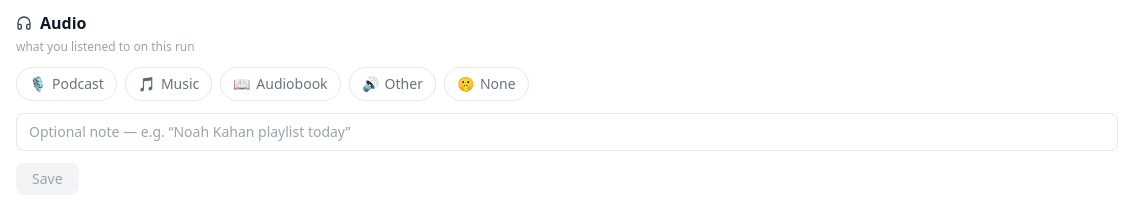
Test: AudioLog › PATCHes the selected type + note on save
This screenshot has width=1135, height=212.
Click the button "🎙️ Podcast" at (66, 84), box left=16, top=67, right=117, bottom=101
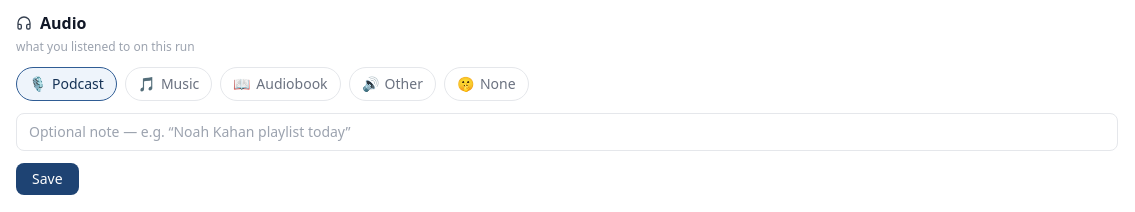
Type "Noah Kahan playlist today" into the field with placeholder "Optional note — e.g. “Noah Kahan playlist today”" at (567, 132), box left=16, top=113, right=1118, bottom=151
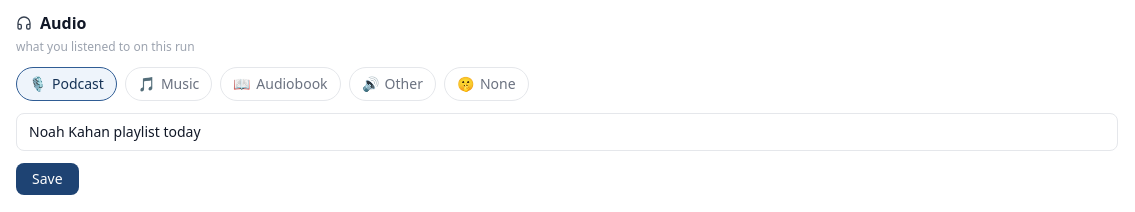
Click the button "Save" at (47, 179), box left=16, top=163, right=79, bottom=195
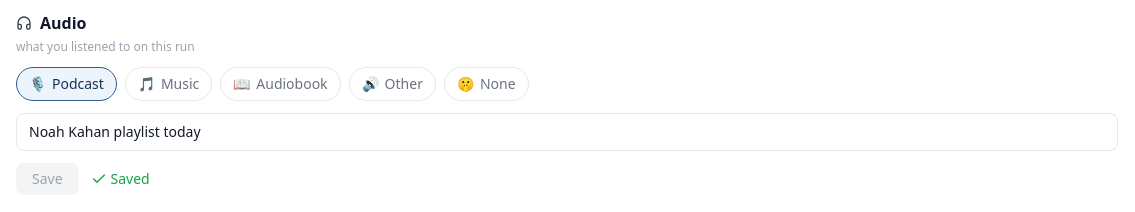
Expected: the text "Saved" is shown, left=91, top=169, right=150, bottom=189
